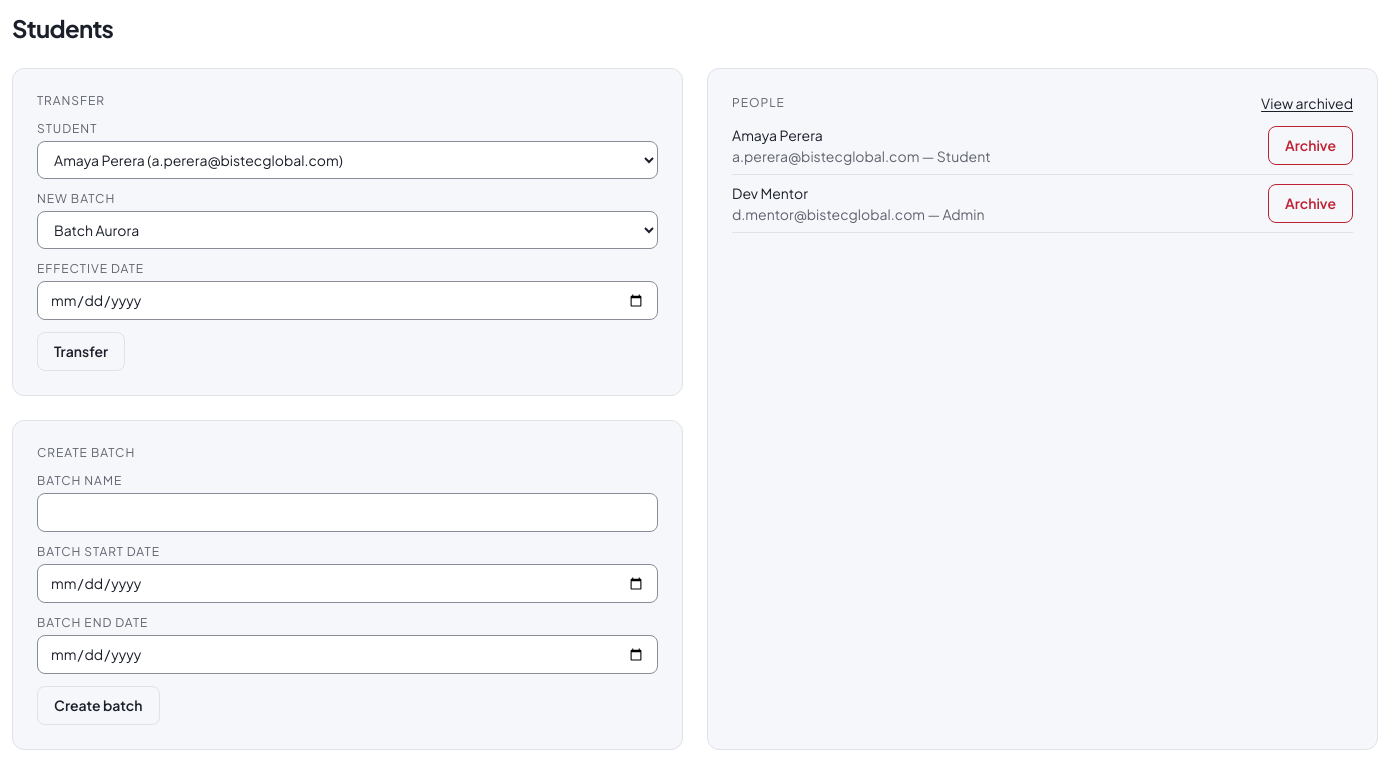
StudentsPage › surfaces an archive action's 409 self-archive error via role=alert
Click the button "Archive" in the row of "Amaya Perera" at (1310, 146), box [1268, 126, 1353, 165]
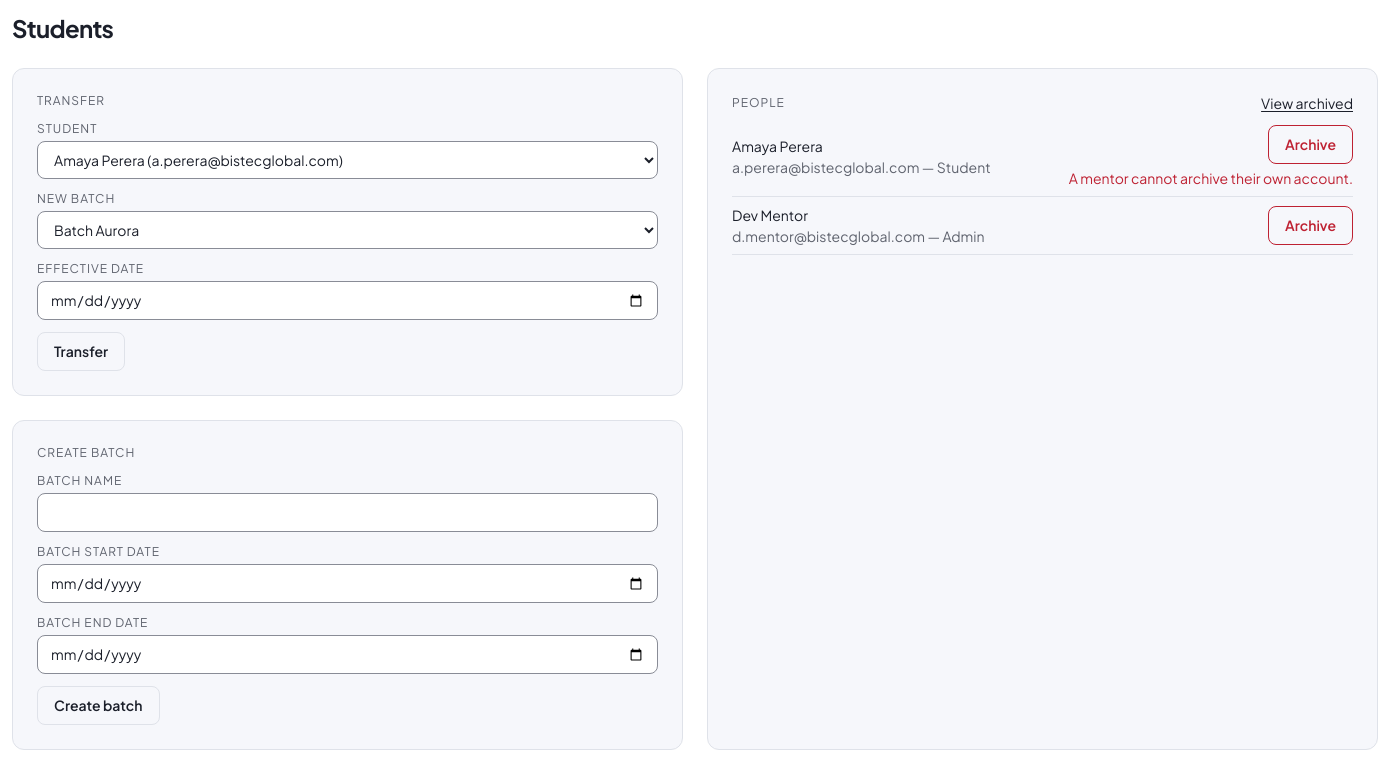
Now the message reads "A mentor cannot archive their own account.", box [1069, 169, 1353, 187]
